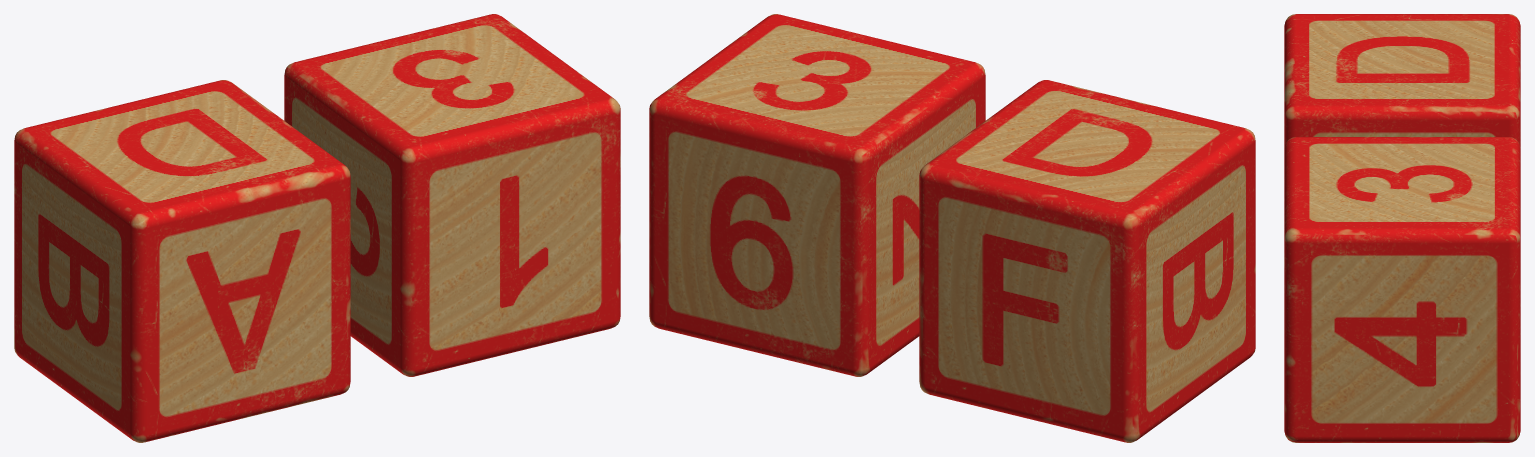
File: toy-number-blocks.fbx
3 views of the same model, side by side, from view 1: azimuth 30°, elevation 25°; view 2: azimuth 150°, elevation 25°; view 3: azimuth 270°, elevation 25° (orthographic). The views are drawn at different scales.
Parts seen in each view (by area): view 1: wood_cube_2_lambert1_0, wood_cube_1_lambert1_0; view 2: wood_cube_2_lambert1_0, wood_cube_1_lambert1_0; view 3: wood_cube_1_lambert1_0, wood_cube_2_lambert1_0.
Boxes of the visible parts, x1,y1,x2,y2 form: wood_cube_2_lambert1_0: [14, 80, 350, 442]; wood_cube_1_lambert1_0: [284, 14, 620, 376]; wood_cube_2_lambert1_0: [919, 80, 1255, 442]; wood_cube_1_lambert1_0: [649, 14, 985, 376]; wood_cube_1_lambert1_0: [1284, 137, 1520, 442]; wood_cube_2_lambert1_0: [1284, 14, 1520, 147].
Size of the model in its own units: 14.24 by 6.38 by 6.38.
Materials: 1 (1 with a texture image).
